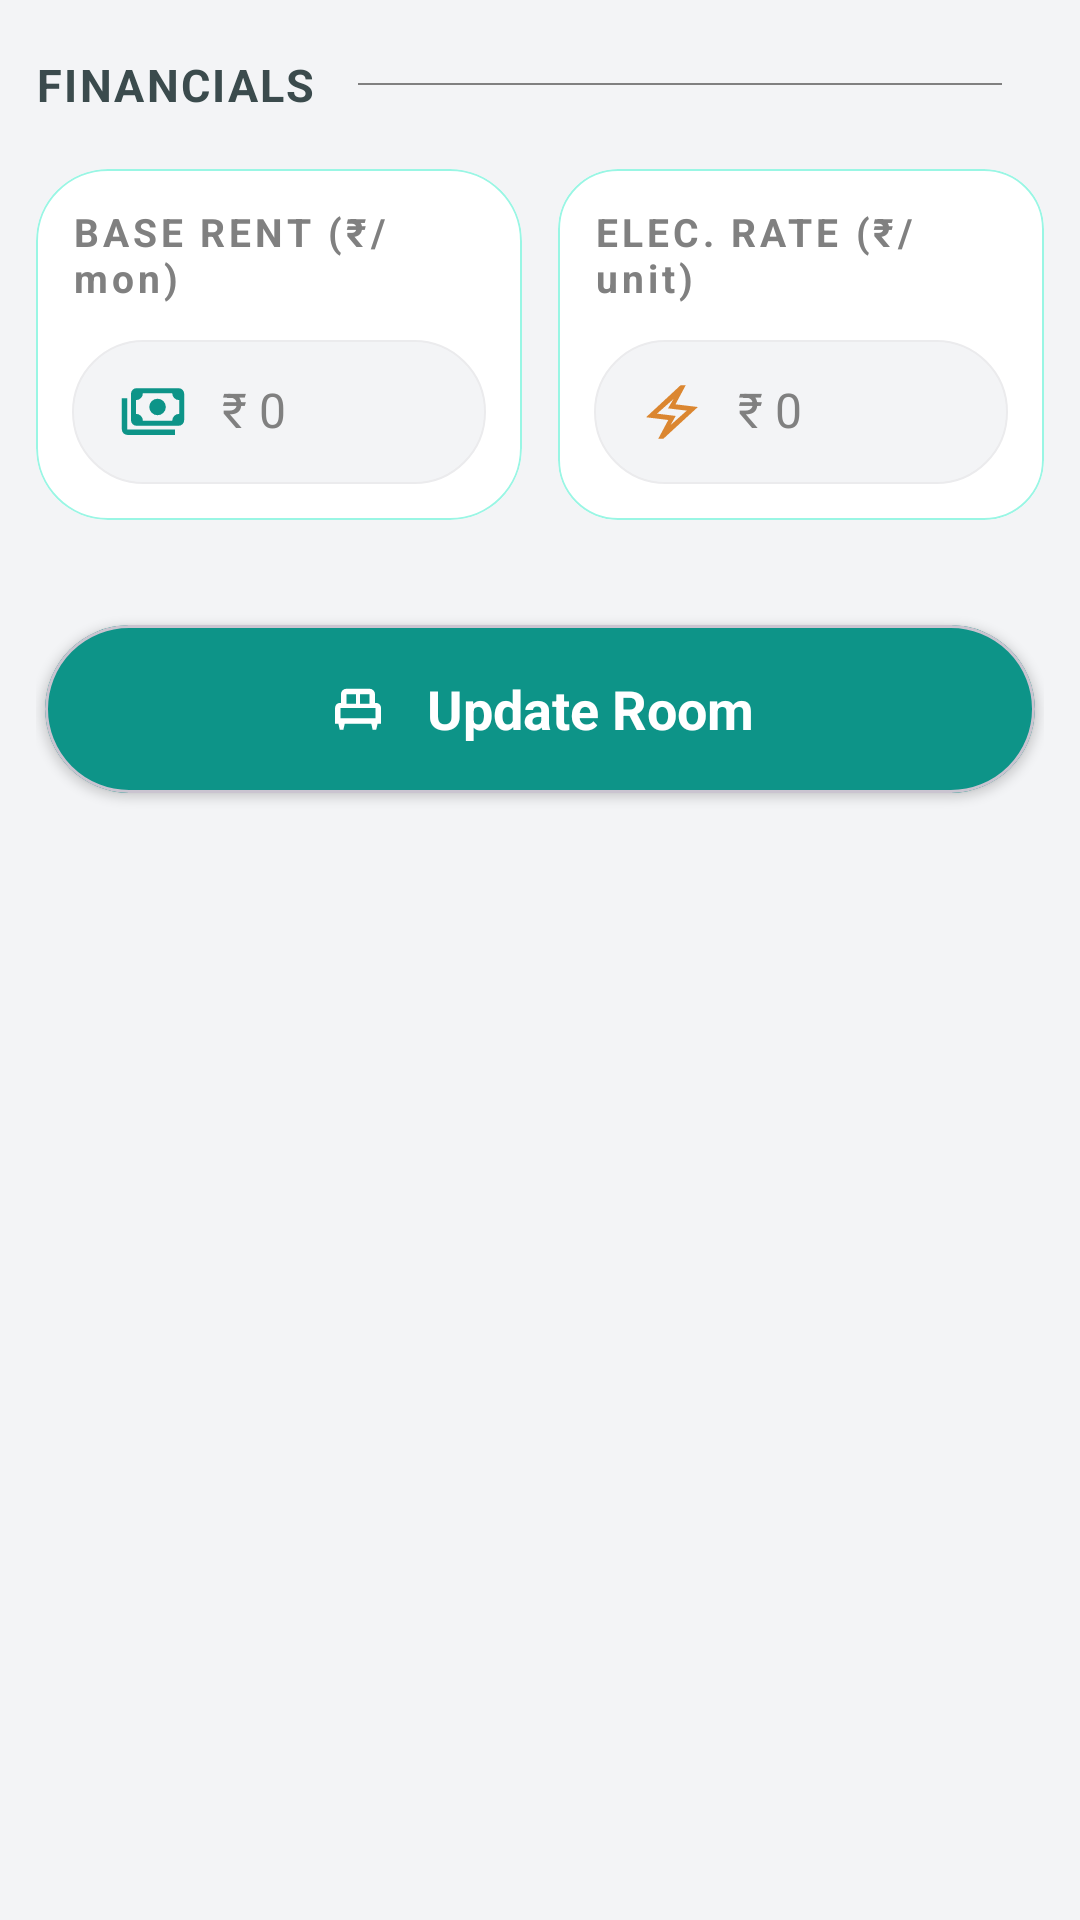

Icon click points for this 1080px x 1920px phone screenshot, format [x,y]:
cash payment: [153,411]
electric bolt: [672,412]
single bed: [358,709]
